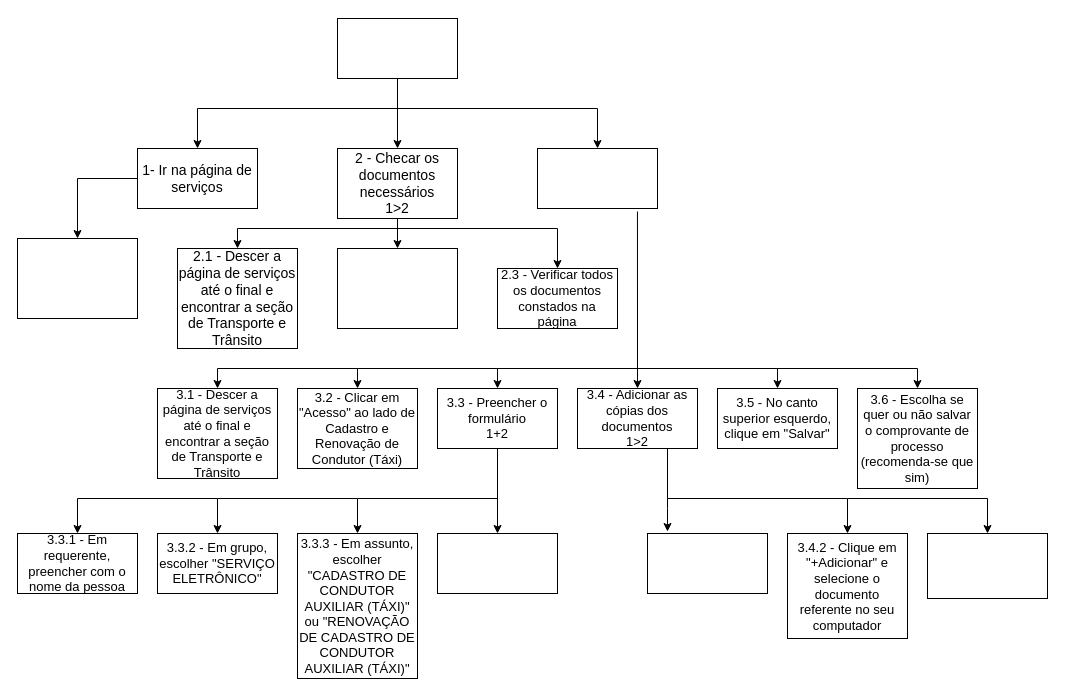
Image size: 1065x696. Some labels were removed from this diagram. The shapes that lost their labels are listed below. From the top down, each one's box as (x1, y1, x2, y2) in pixels, then its label:
(336, 18, 458, 78): 0 . Obter licença para condutor auxiliar (Táxi) 1>2
(536, 148, 658, 208): 3 - Enviar os documentos 1>2
(16, 238, 138, 318): 1.1 - Clicar no botão azul escrito SERVIÇOS, ao lado de TURISMO e SERVIDOR
(336, 248, 458, 328): 2.2 - Clicar em "Informações" ao lado de Cadastro e Renovação de Contudor (Táxi)
(436, 532, 558, 594): 3.3.4 - Preencher os outros campos, se achar necessário
(646, 532, 768, 594): 3.4.1 - Na aba de Documentos, leia as descrições e clique em Selecionar
(926, 532, 1048, 598): 3.4.3 - Se achar necessário, preencher os outros dados
